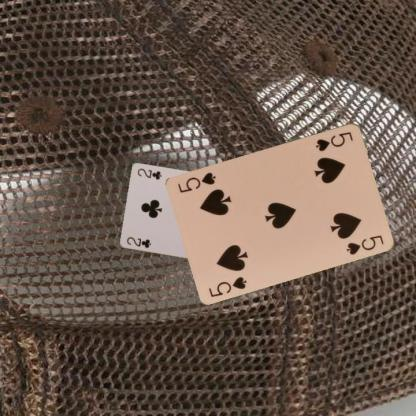2c: (124, 235, 152, 250)
5s: (206, 273, 248, 298), (313, 129, 354, 152)
